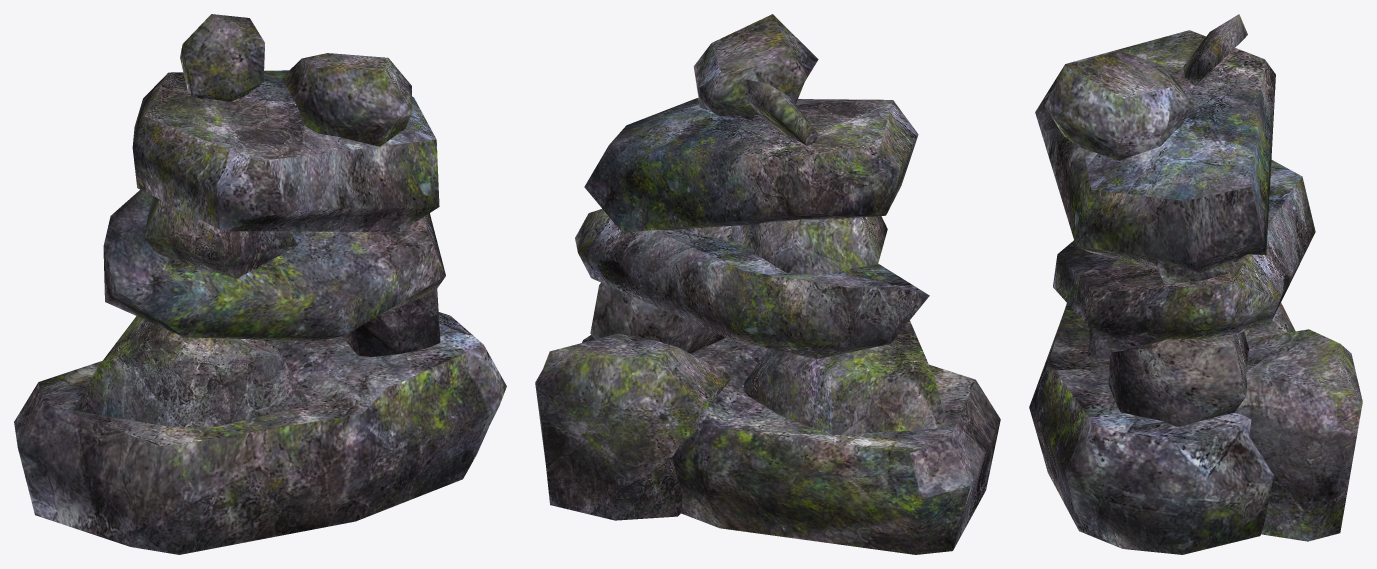
Rendered from cairn_02_02.glb.
3 views of the same model, side by side, from view 1: azimuth 30°, elevation 25°; view 2: azimuth 150°, elevation 25°; view 3: azimuth 270°, elevation 25° (orthographic). The views are drawn at different scales.
Visible parts, largest first — view 1: cairn_02_02; view 2: cairn_02_02; view 3: cairn_02_02.
Part boxes in pixels (x1,y1,x2,y2): cairn_02_02: [14, 14, 506, 554]; cairn_02_02: [535, 14, 1000, 554]; cairn_02_02: [1029, 14, 1362, 554].
Size of the model in its own units: 16.97 by 18.44 by 11.51.
Materials: 1 (1 with a texture image).
